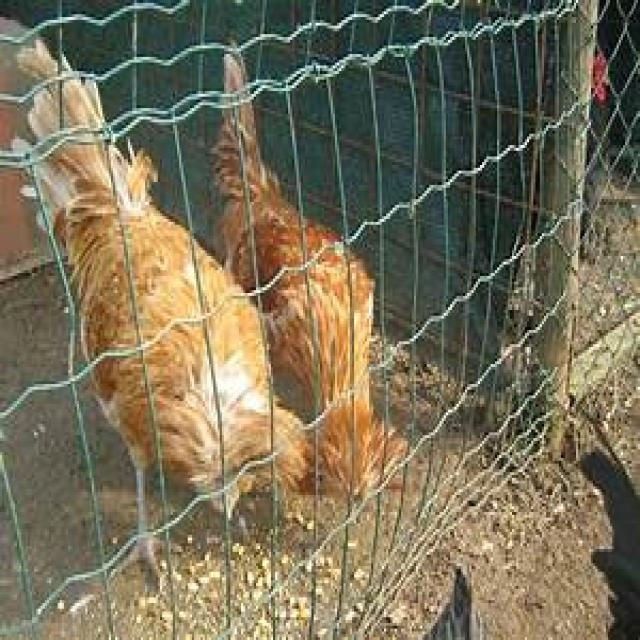animal: (5, 29, 315, 601), (209, 37, 410, 501)
